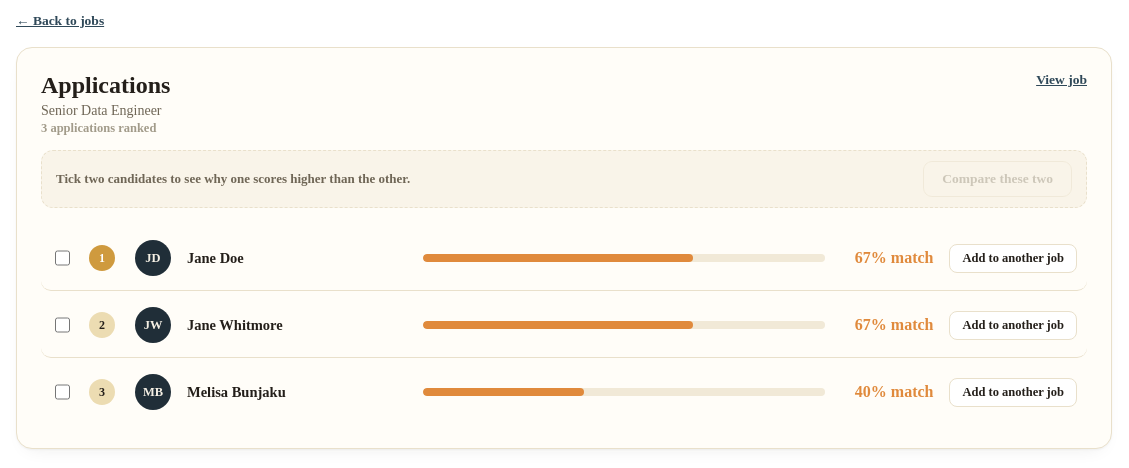
Test: JobMatchesPage › Compare two candidates › links to the comparison once exactly two are ticked
The width and height of the screenshot is (1129, 468).
Expected: the link "Jane Doe" is shown, 187,250 -> 244,266
Expected: the button "Compare these two" is disabled, 923,161 -> 1072,197
What coordinates should you click on to do the following:
click the checkbox named "Select Jane Doe to compare"
I would click on:
 (62, 258)
Its box is 55,250 -> 70,266.
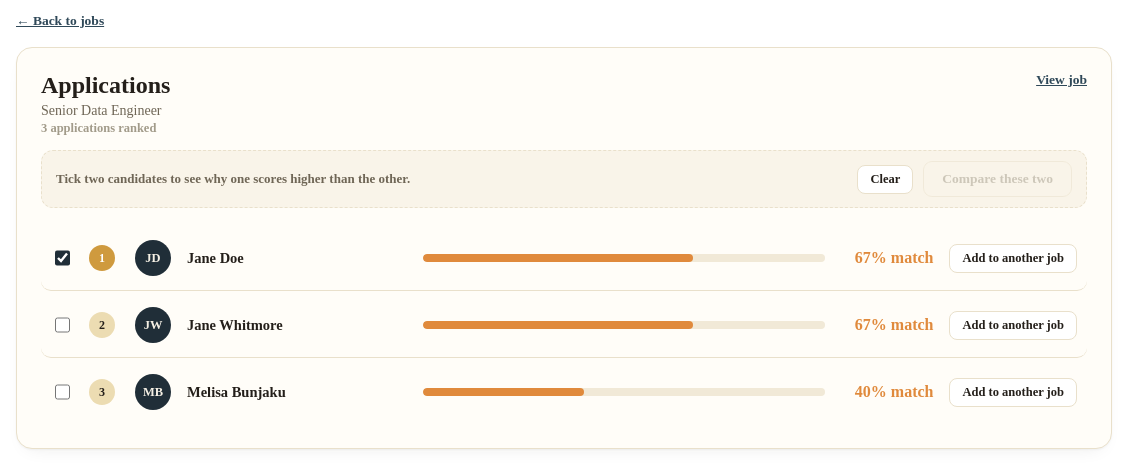
What coordinates should you click on to do the following:
click the checkbox named "Select Melisa Bunjaku to compare"
I would click on:
 (62, 392)
Its box is 55,384 -> 70,400.
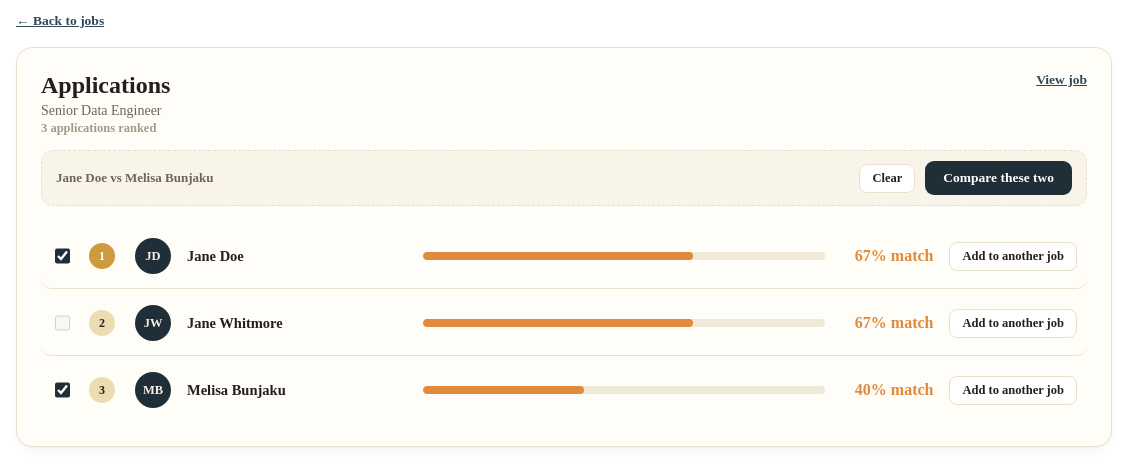
Now the text "Jane Doe vs Melisa Bunjaku" is shown, box 56,170 -> 214,186
